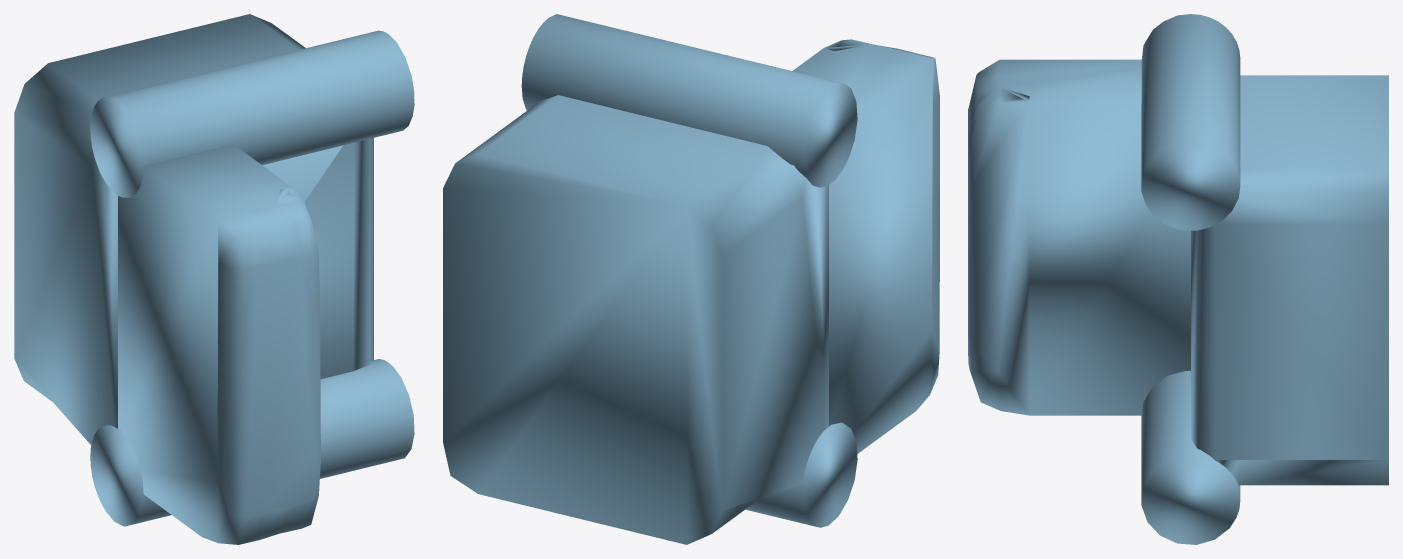
File: downeyschairLowRes.fbx
3 views of the same model, side by side, from view 1: azimuth 30°, elevation 25°; view 2: azimuth 150°, elevation 25°; view 3: azimuth 270°, elevation 25° (orthographic). The views are drawn at different scales.
Visible parts, largest first — view 1: Cylinder; view 2: Cylinder; view 3: Cylinder.
Part boxes in pixels (x1,y1,x2,y2): Cylinder: [14, 14, 414, 544]; Cylinder: [443, 14, 939, 544]; Cylinder: [968, 14, 1388, 544].
Bounding box in the file's own units: 6.08 × 9 × 8.5.
